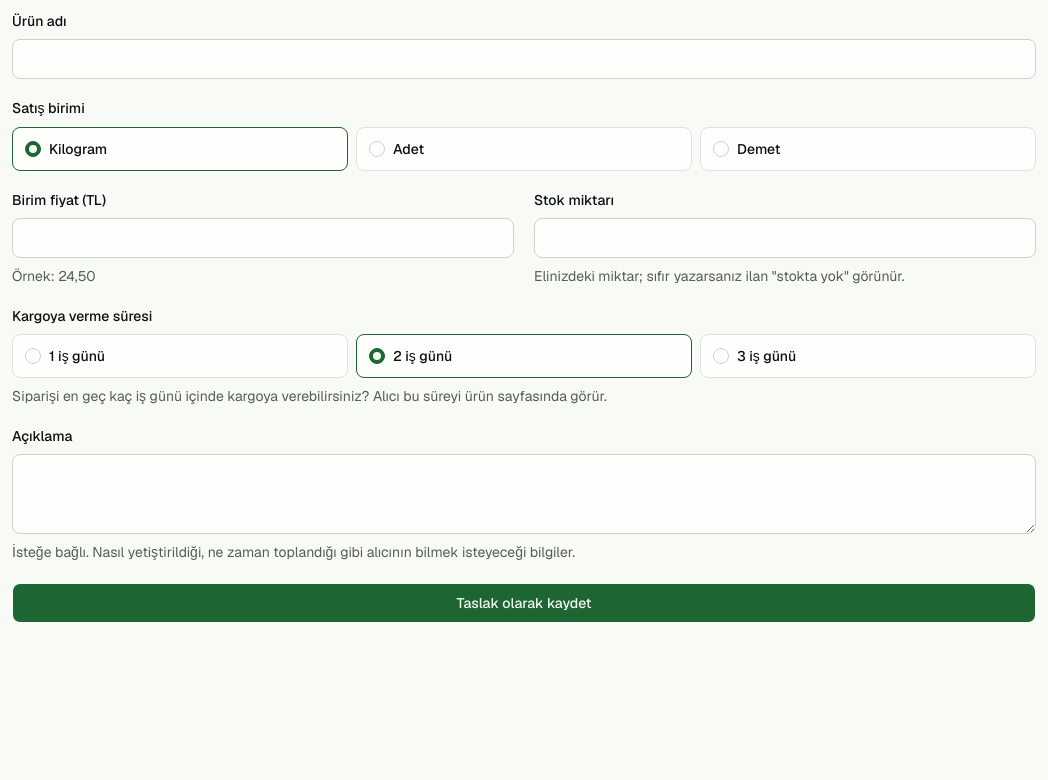
Test: ListingForm › geçersiz fiyat ve stoku göndermeden işaretler
This screenshot has width=1048, height=780.
Type "Domates" into the field labelled "Ürün adı".
click(524, 59); type("Domates")  # box [12,39,1036,79]
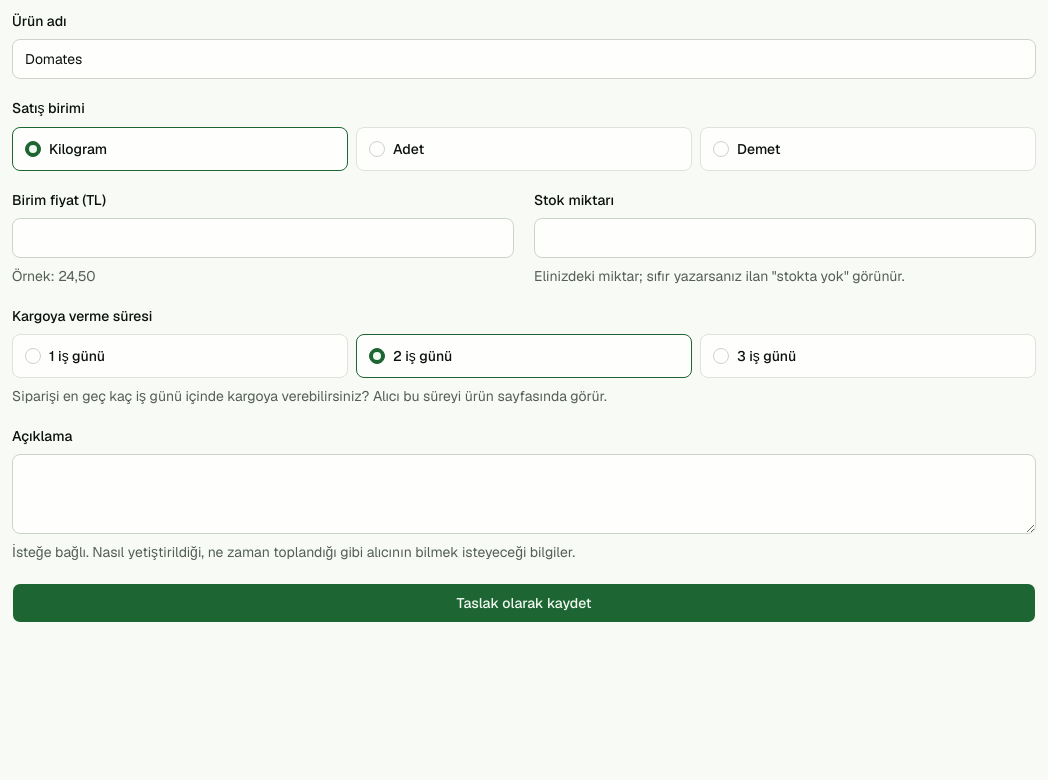
Type "yirmi" into the field labelled "Birim fiyat (TL)".
click(263, 238); type("yirmi")  # box [12,218,514,258]
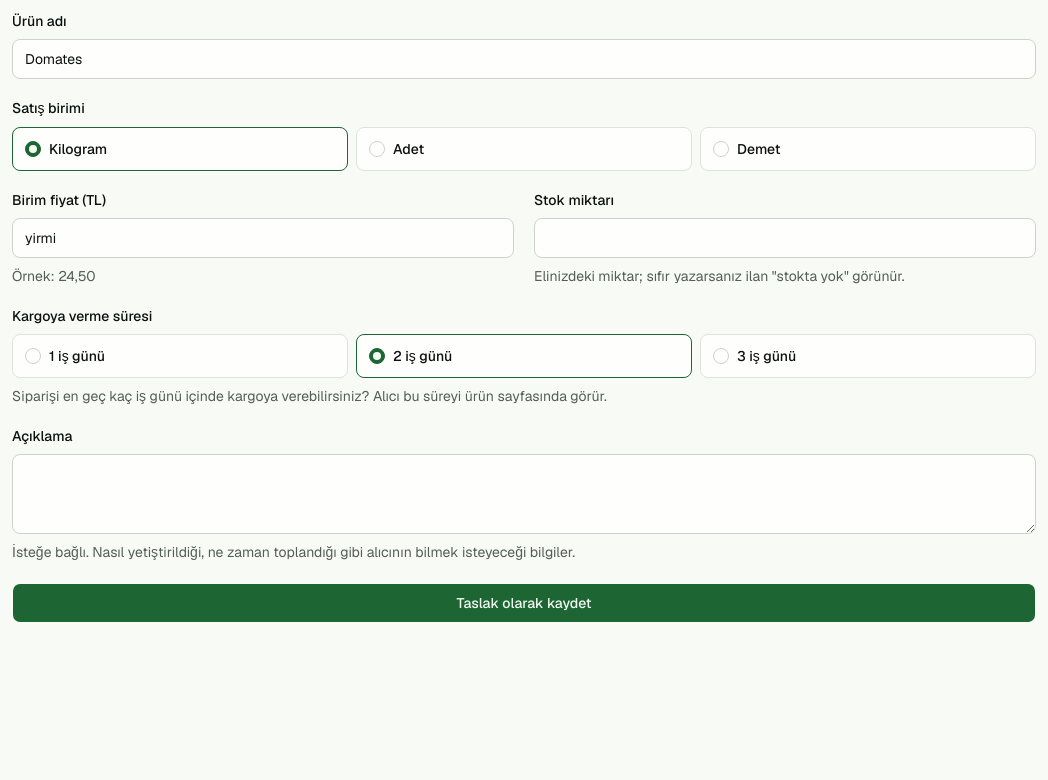
Type "-3" into the field labelled "Stok miktarı".
click(785, 238); type("-3")  # box [534,218,1036,258]
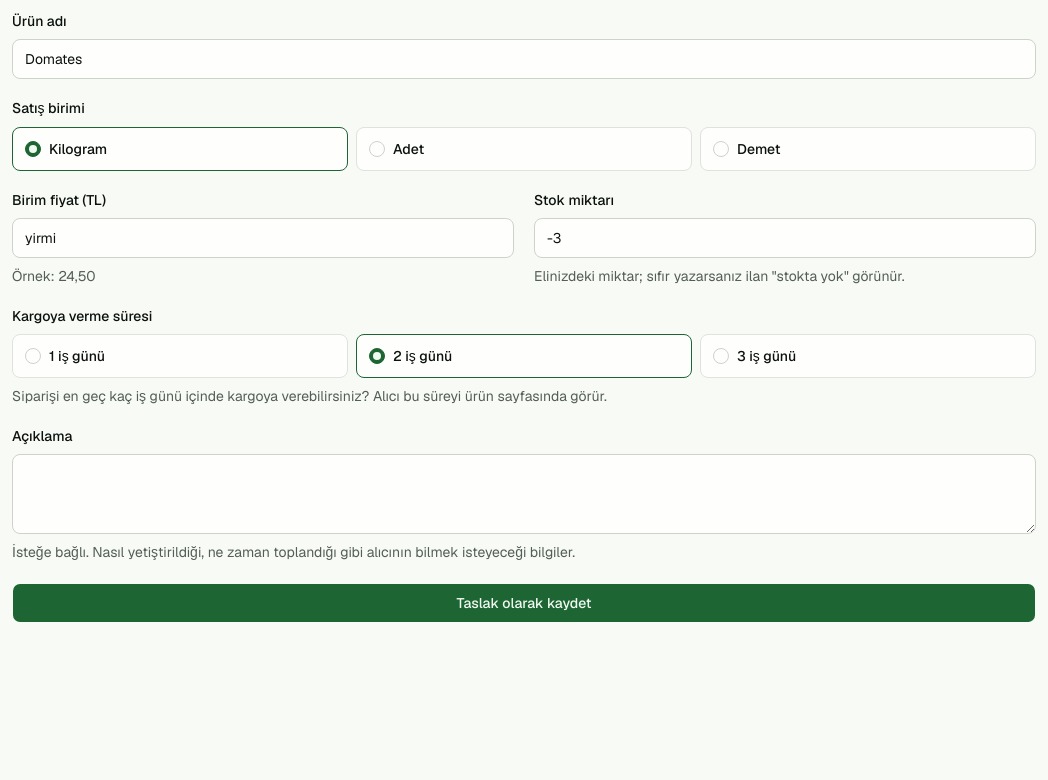
Click the button "Taslak olarak kaydet".
click(524, 603)  # box [12,583,1036,623]
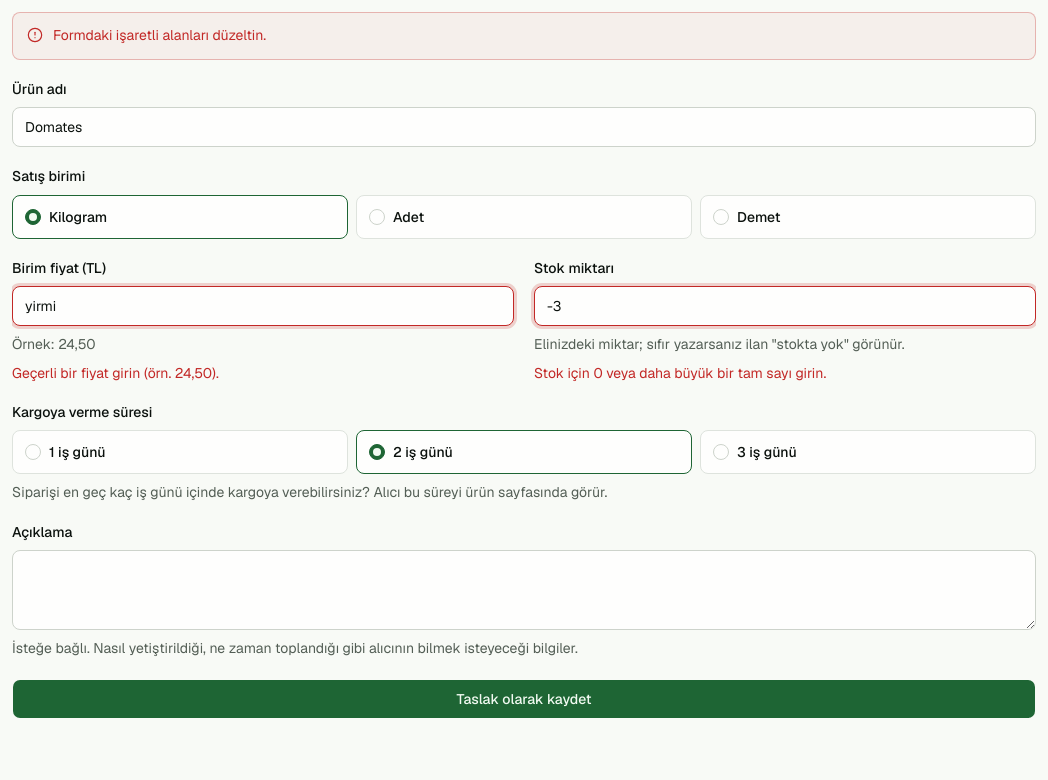
Now the text "Geçerli bir fiyat girin (örn. 24,50)." is shown, box [12,364,219,382]
Now the text "Stok için 0 veya daha büyük bir tam sayı girin." is shown, box [534,364,826,382]
